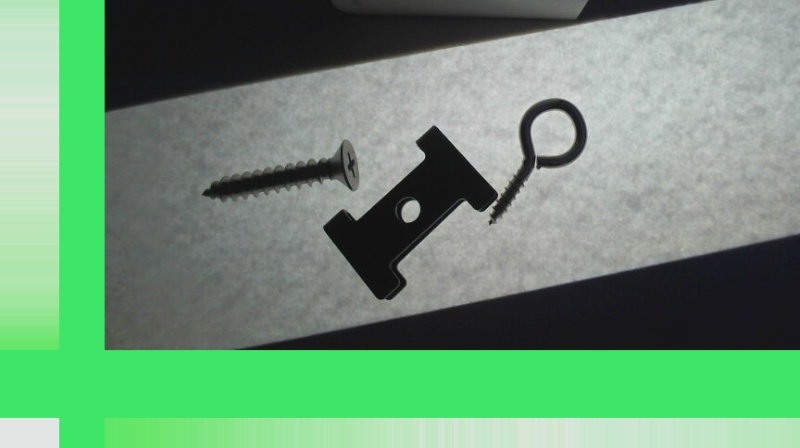O001: (486, 95, 589, 226)
O002: (323, 124, 499, 302)
S001: (202, 136, 359, 203)
